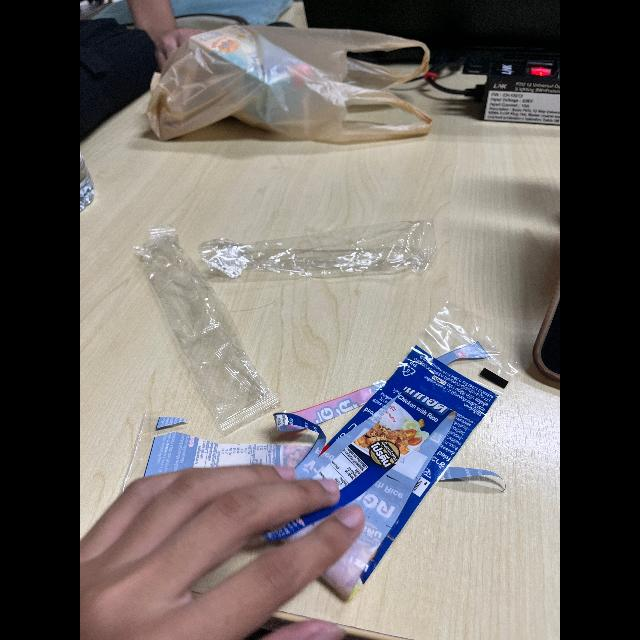scrap_plastic: (265, 300, 515, 602), (118, 237, 276, 425), (201, 212, 443, 278)
